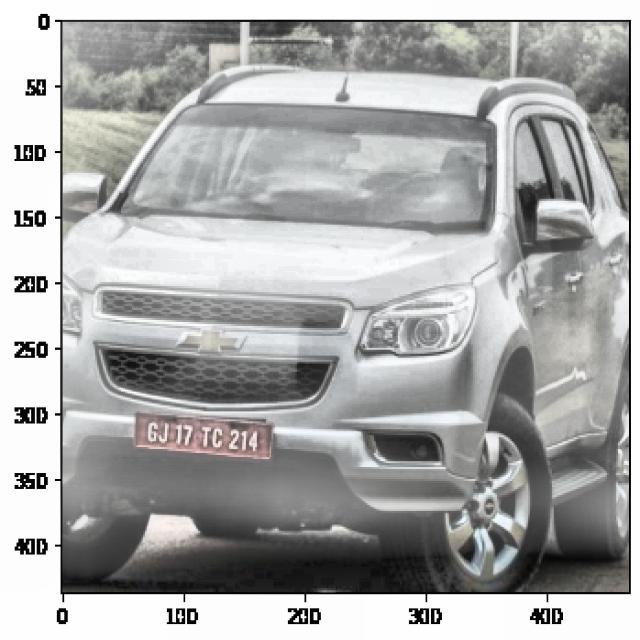license_plate: (139, 415, 267, 460)
